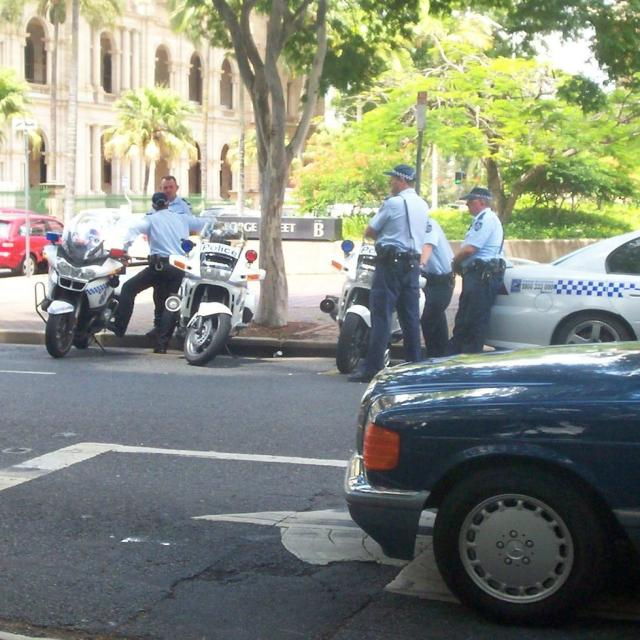Motorbikes: (168, 223, 254, 367), (35, 214, 120, 358)
Passenger Car: (344, 340, 640, 633), (482, 224, 640, 344)
Pedestrians: (348, 165, 434, 383), (449, 184, 505, 347), (122, 192, 176, 356)
